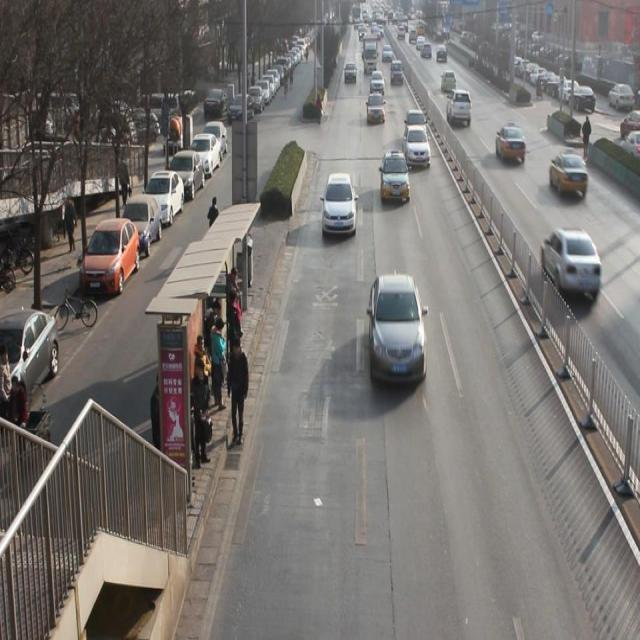car: (366, 273, 429, 387), (539, 227, 603, 303), (322, 172, 356, 236), (550, 148, 589, 200), (380, 150, 410, 202), (494, 122, 528, 166), (401, 127, 431, 170), (446, 89, 472, 128), (404, 110, 427, 139), (365, 95, 386, 123), (389, 60, 405, 86), (369, 71, 386, 94), (342, 62, 357, 84), (440, 72, 456, 92)
